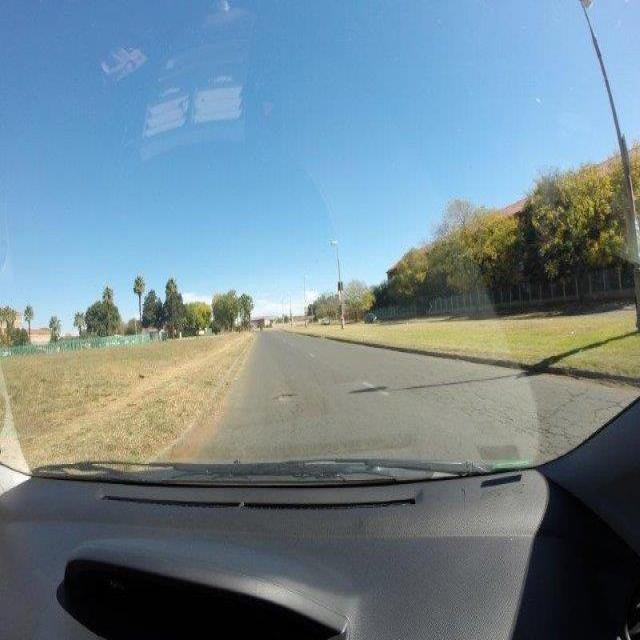jalan retak: (508, 378, 564, 454), (561, 386, 607, 424), (561, 422, 581, 448), (599, 395, 623, 413)
lubang: (270, 388, 294, 403)
